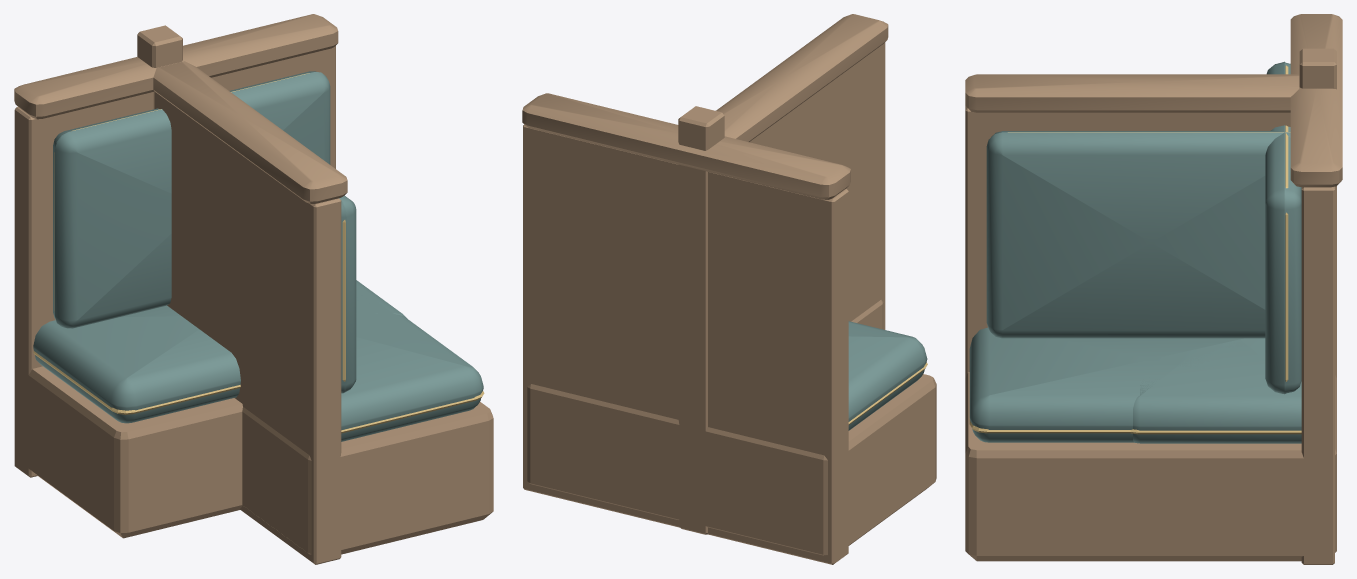
File: restaurant-kitchen-and-dining-banquette-corner-dcc6e675__16499.glb
3 views of the same model, side by side, from view 1: azimuth 30°, elevation 25°; view 2: azimuth 150°, elevation 25°; view 3: azimuth 270°, elevation 25° (orthographic). The views are drawn at different scales.
Visible parts, largest first — view 1: banquette-corner; view 2: banquette-corner; view 3: banquette-corner.
Boxes of the visible parts, x1=… form: banquette-corner: x1=14, y1=14, x2=493, y2=564; banquette-corner: x1=522, y1=14, x2=936, y2=564; banquette-corner: x1=965, y1=14, x2=1342, y2=564.
Size of the model in its own units: 1 by 1.26 by 1.01.
